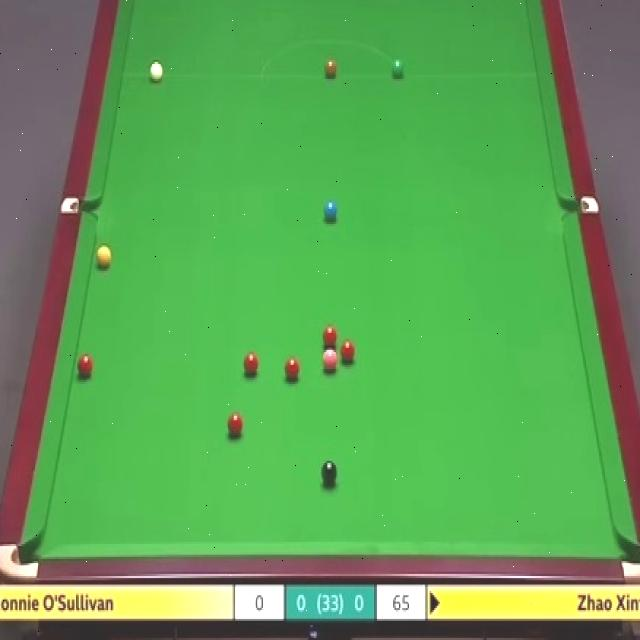black-ball: (321, 460, 339, 488)
blue-ball: (323, 199, 338, 223)
brown-ball: (324, 59, 337, 79)
green-ball: (392, 57, 404, 82)
pink-ball: (323, 348, 339, 372)
red-ball: (226, 411, 245, 438), (243, 350, 260, 380), (340, 340, 358, 368), (284, 356, 301, 385), (77, 352, 93, 380), (323, 323, 338, 350)
white-ball: (148, 58, 163, 83)
yellow-ball: (97, 242, 112, 268)
